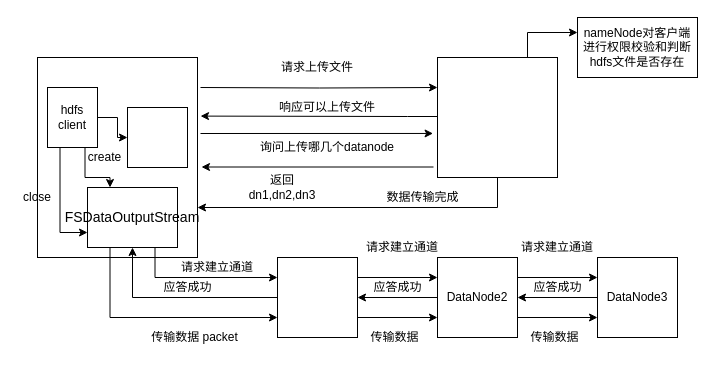
Some shapes in this 715 by 365 pixel diagram are drawn without their labels. The shapes that lost their labels are listed below. From the top down, each one's centre as x and y in pixels, then its label:
[157,137]: Distributed FileSystem
[497,117]: NameNode
[317,297]: DataNode1
